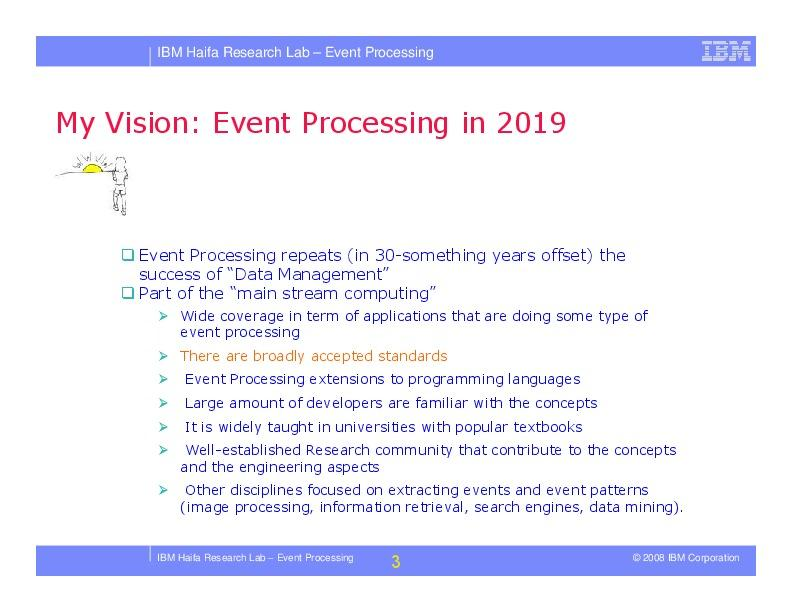paragraph: (111, 224, 723, 530)
title: (52, 102, 600, 148)
